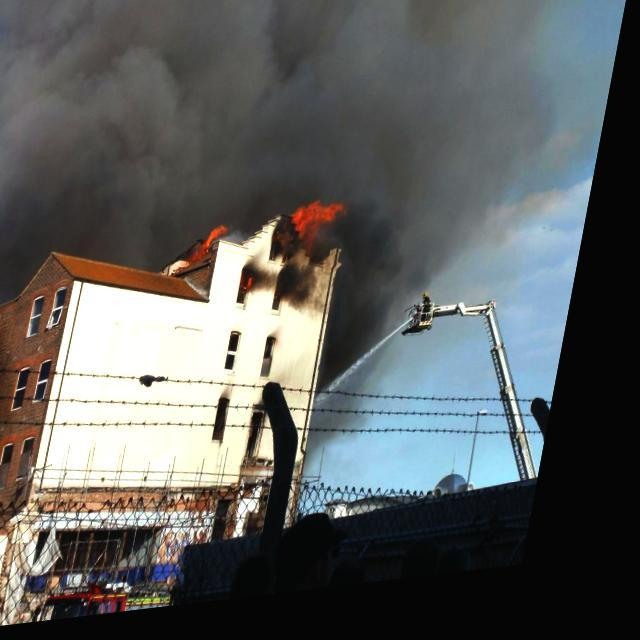Fire: (290, 204, 354, 264), (207, 226, 236, 262), (250, 272, 270, 300)
